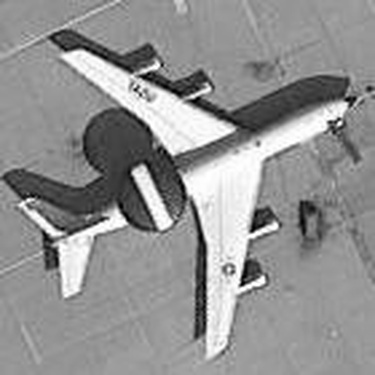airplane: (10, 24, 361, 366)
